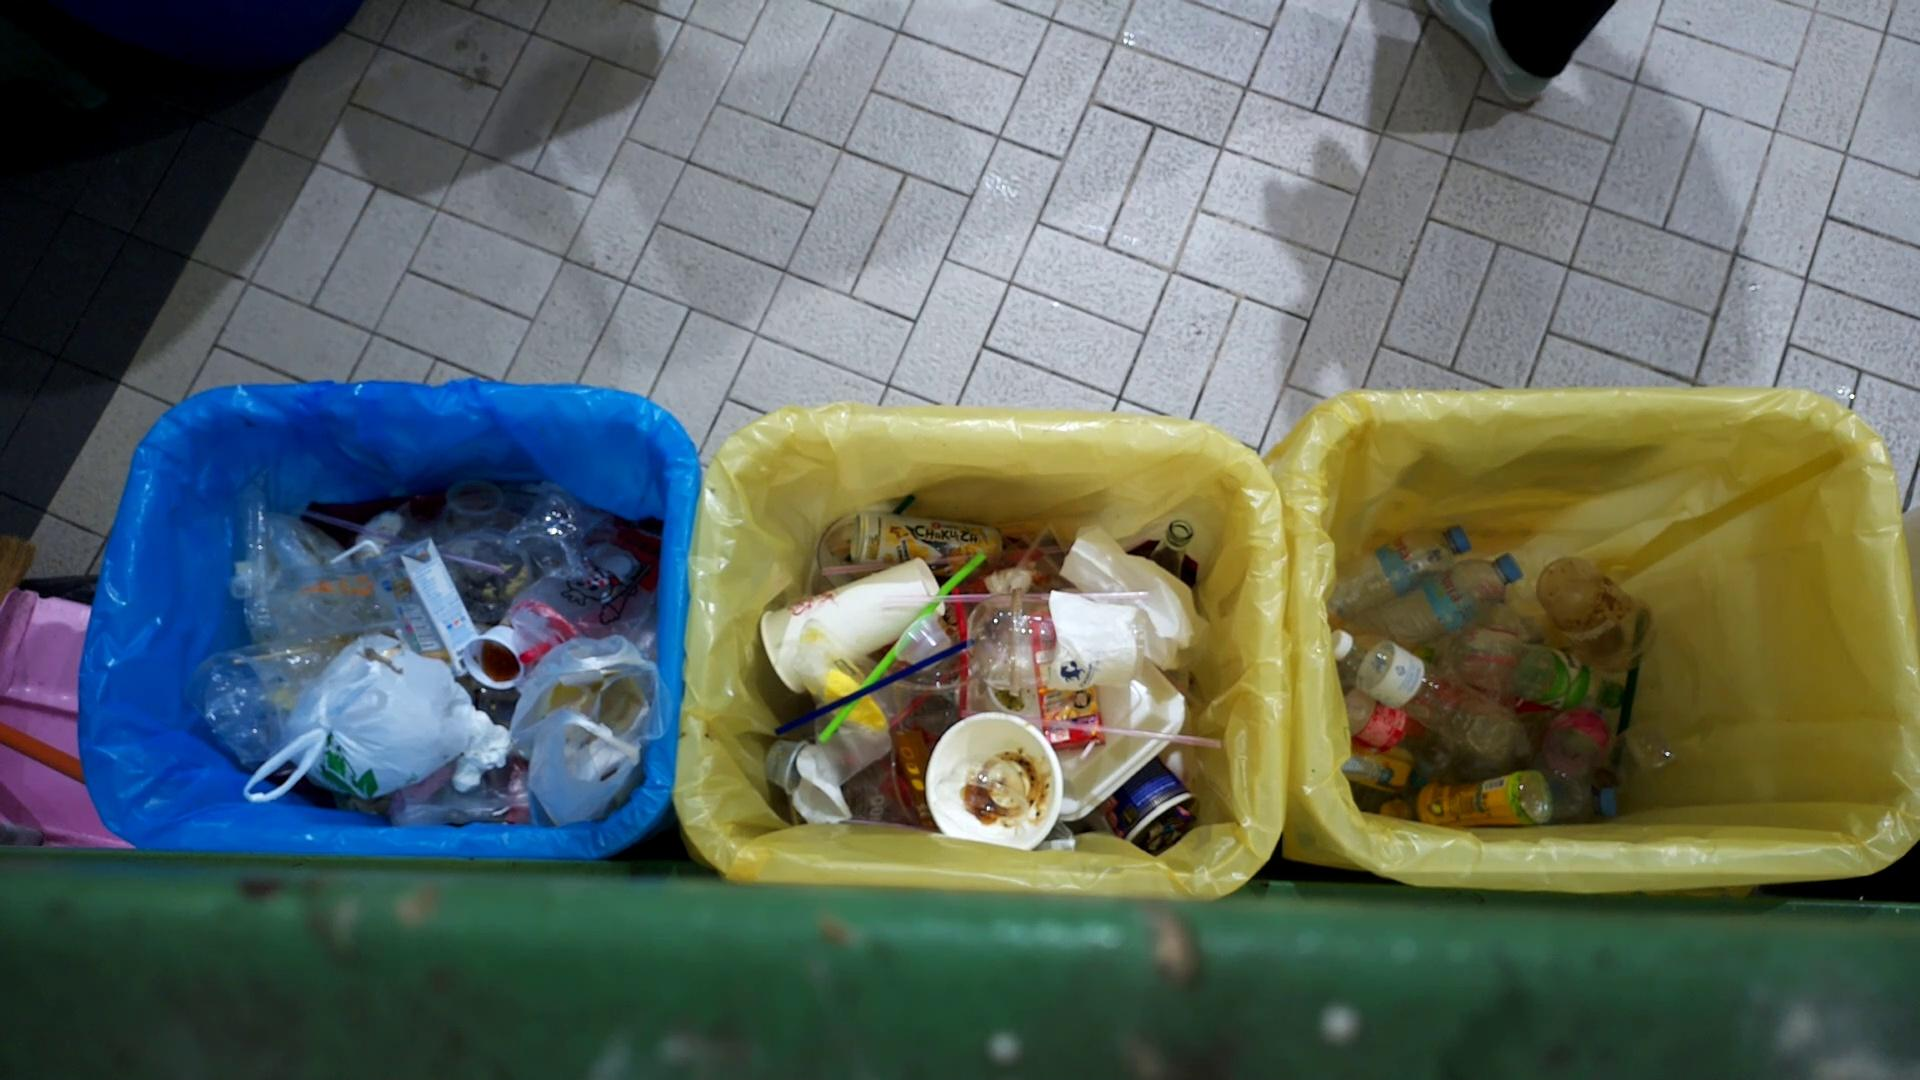can: (848, 513, 986, 567)
filled plastic bag: (508, 636, 669, 825)
food container: (924, 713, 1063, 853), (791, 741, 856, 824), (460, 625, 524, 690), (764, 736, 812, 794)
milk carton: (363, 537, 479, 676)
plastic bag: (1060, 522, 1212, 673), (825, 510, 1051, 529)
plastic bottle: (241, 633, 475, 803), (1325, 628, 1531, 765), (1335, 554, 1524, 650), (1429, 628, 1633, 715), (1323, 522, 1474, 612), (1381, 769, 1555, 822)
plastic cup: (965, 591, 1153, 692), (1538, 556, 1652, 667)
straw: (818, 560, 988, 744), (1029, 725, 1215, 804), (276, 510, 516, 568)
tissue paper: (1044, 592, 1134, 690)
zero waste cup: (761, 555, 945, 695)
